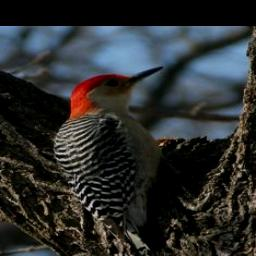Woodpecker: (48, 64, 186, 256)
